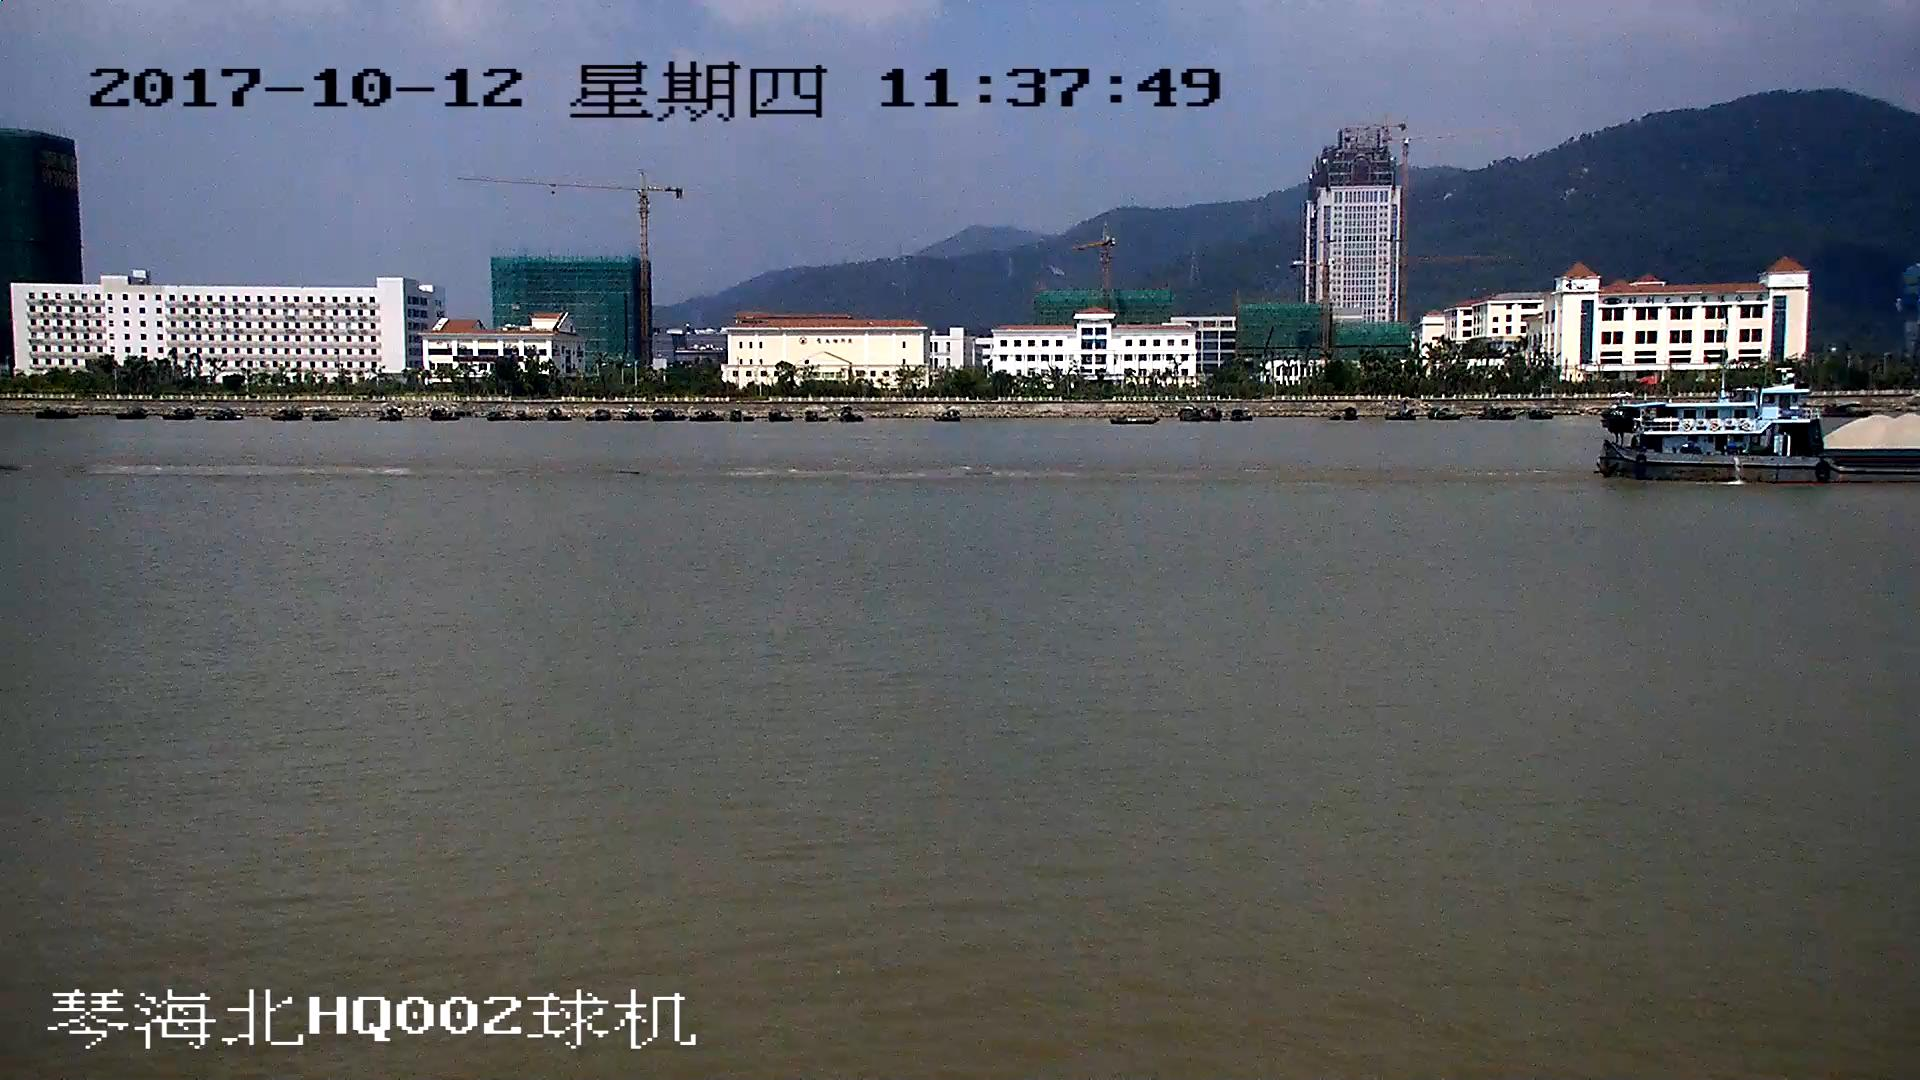ore carrier: (1604, 392, 1920, 487)
